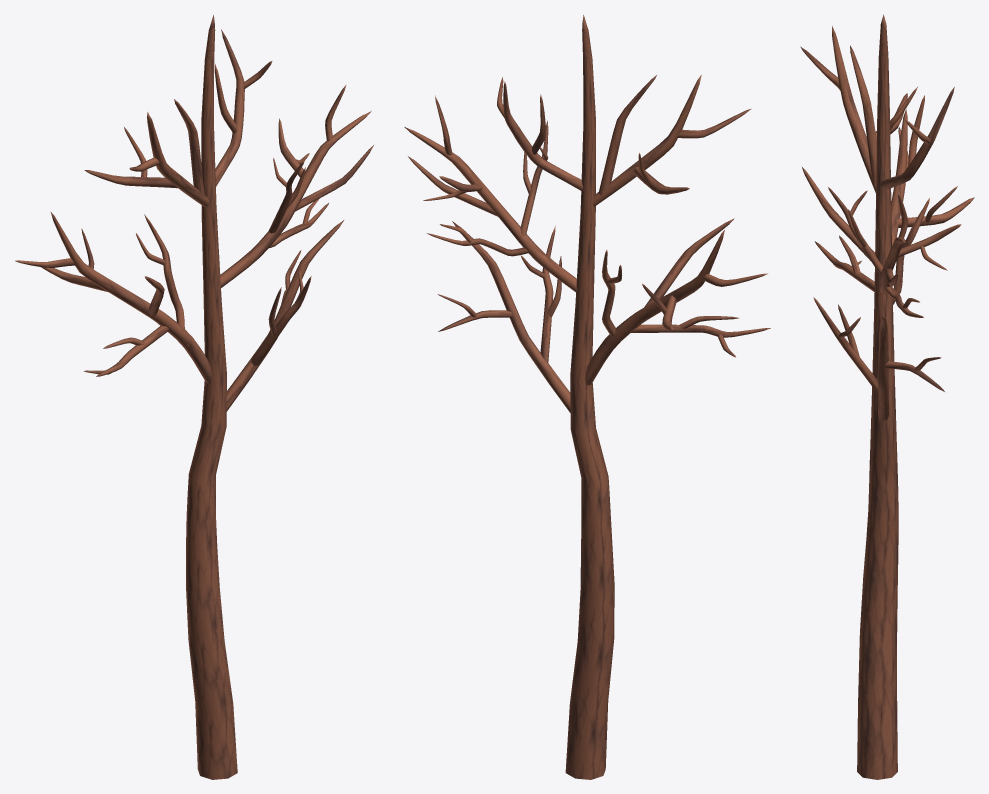
File: DeadTree_1.glb
The picture shows the model from 3 angles, left to right: view 1: azimuth 30°, elevation 25°; view 2: azimuth 150°, elevation 25°; view 3: azimuth 270°, elevation 25°; orthographic projection.
Visible parts, largest first — view 1: DeadTree_1; view 2: DeadTree_1; view 3: DeadTree_1.
Boxes of the visible parts, x1,y1,x2,y2 form: DeadTree_1: [15, 15, 373, 779]; DeadTree_1: [404, 15, 770, 779]; DeadTree_1: [800, 14, 974, 779].
Size of the model in its own units: 3.09 by 6.2 by 1.3.
Materials: 1 (1 with a texture image).
